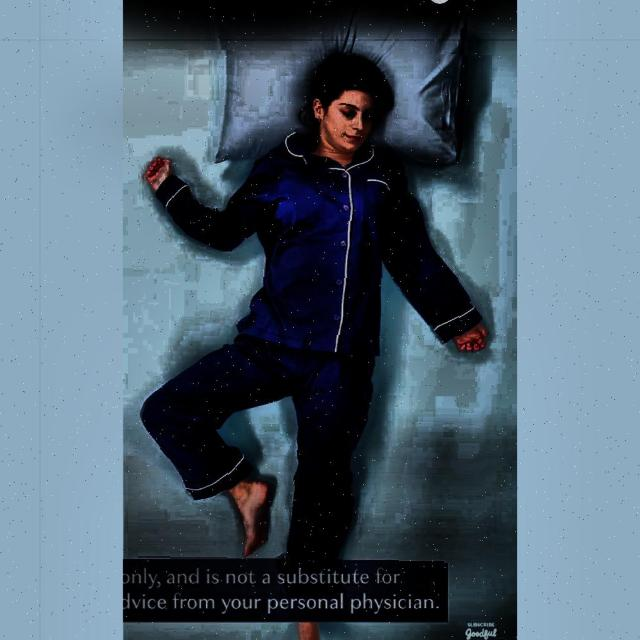Supine: (142, 53, 487, 561)
